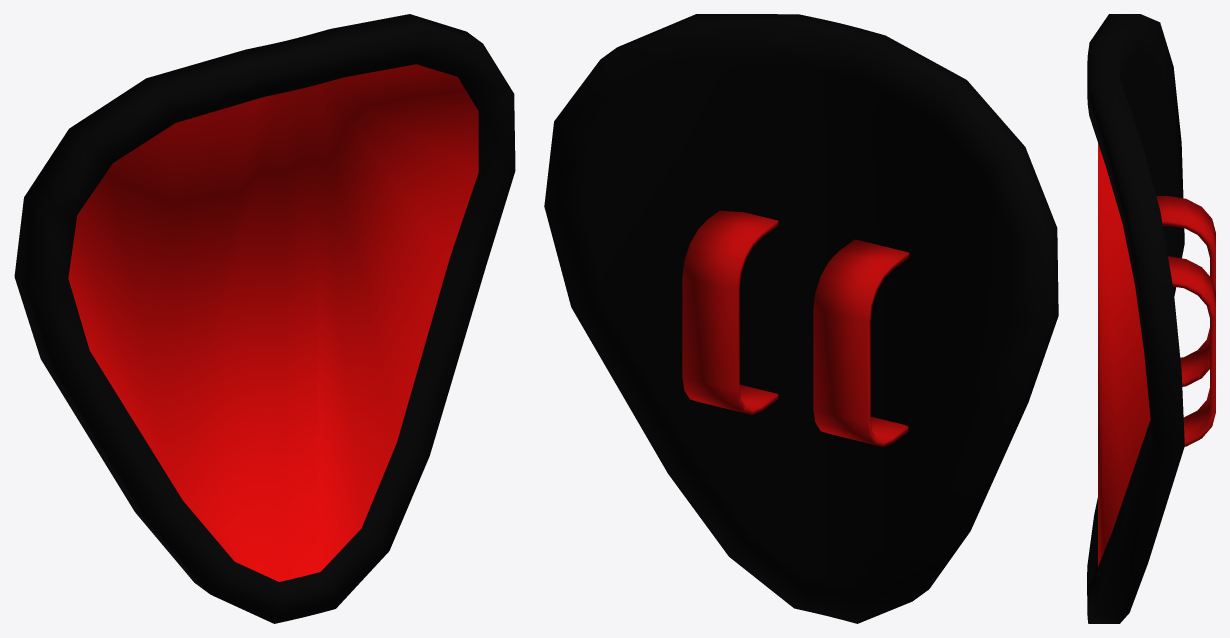
Rendered from Blood Shield.fbx.
The picture shows the model from 3 angles, left to right: view 1: azimuth 30°, elevation 25°; view 2: azimuth 150°, elevation 25°; view 3: azimuth 270°, elevation 25°; orthographic projection. The views are drawn at different scales.
Parts seen in each view (by area): view 1: Shield; view 2: Shield, Shield Holders; view 3: Shield, Shield Holders.
Part boxes in pixels (x1,y1,x2,y2): Shield: (14, 14, 515, 623); Shield: (544, 14, 1058, 623); Shield Holders: (682, 210, 909, 446); Shield: (1087, 14, 1184, 623); Shield Holders: (1156, 196, 1215, 446).
Size of the model in its own units: 86.41 by 96.22 by 20.54.
